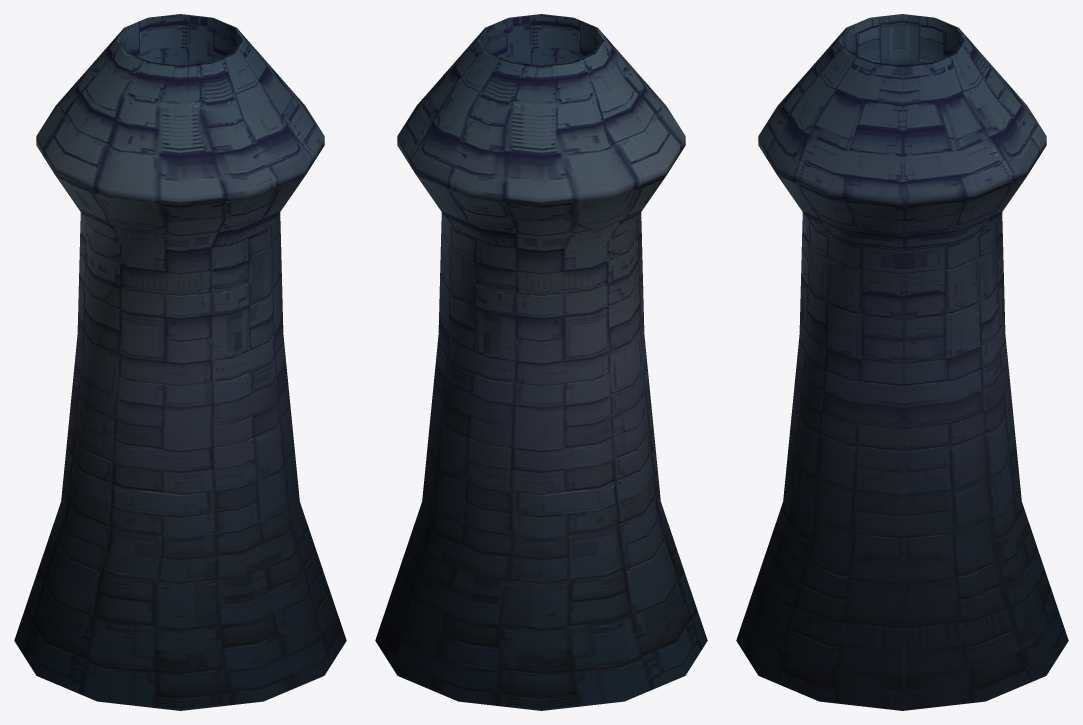
The model's file is Tower_Sound.fbx.
3 renders of one model, left to right at view 1: azimuth 30°, elevation 25°; view 2: azimuth 150°, elevation 25°; view 3: azimuth 270°, elevation 25°, orthographic.
Visible parts, largest first — view 1: Tower01; view 2: Tower01; view 3: Tower01.
Part boxes in pixels (x1=…): Tower01: x1=14, y1=14, x2=346, y2=710; Tower01: x1=375, y1=14, x2=707, y2=710; Tower01: x1=736, y1=14, x2=1068, y2=710.
Size of the model in its own units: 294 by 586 by 294.
1 material, 1 textured.
